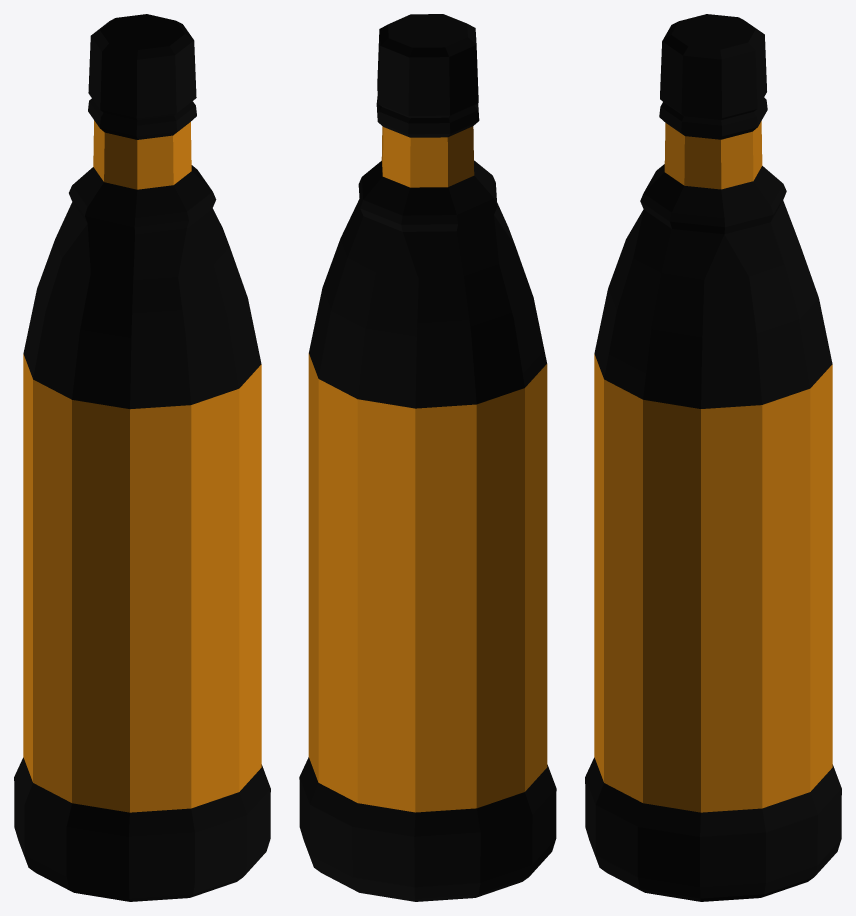
File: Wine 17.fbx
3 renders of one model, left to right at view 1: azimuth 30°, elevation 25°; view 2: azimuth 150°, elevation 25°; view 3: azimuth 270°, elevation 25°, orthographic.
Visible parts, largest first — view 1: Node 0; view 2: Node 0; view 3: Node 0.
Part boxes in pixels (x1=…): Node 0: x1=14, y1=14, x2=270, y2=901; Node 0: x1=299, y1=14, x2=556, y2=901; Node 0: x1=585, y1=14, x2=841, y2=901.
Bounding box in the file's own units: 0.0732 × 0.2582 × 0.0732.
